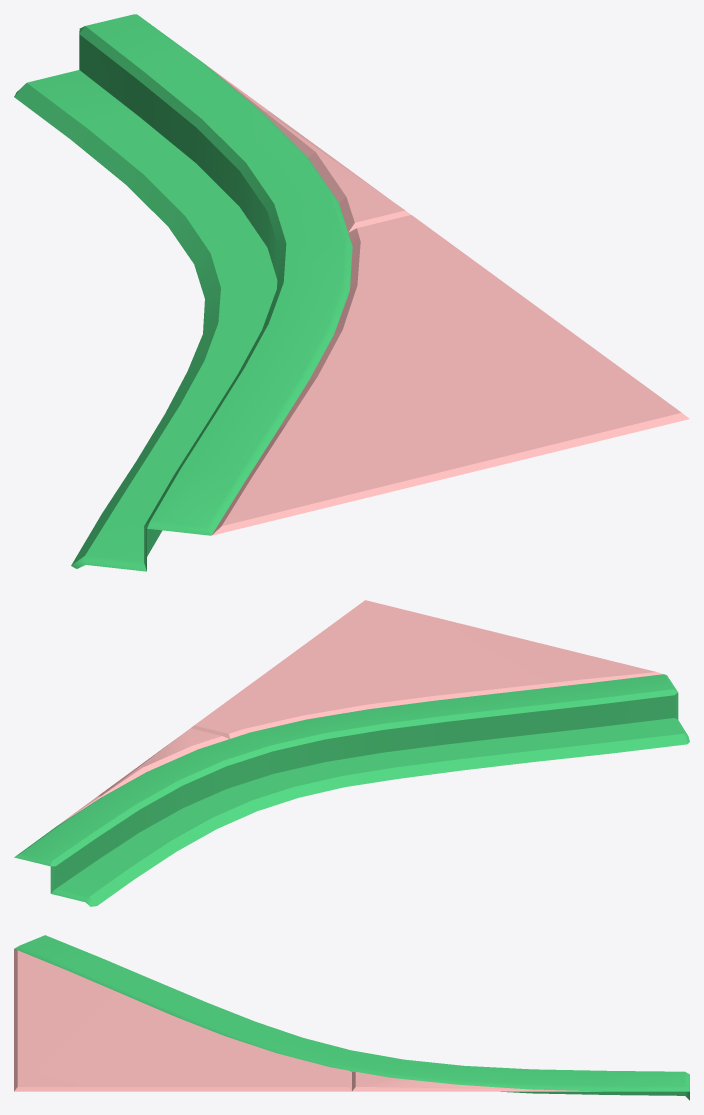
The model's file is mesh_Paving_Inner45Right_v1.3.fbx.
The picture shows the model from 3 angles, top to bottom: view 1: azimuth 30°, elevation 25°; view 2: azimuth 150°, elevation 25°; view 3: azimuth 270°, elevation 25°; orthographic projection. The views are drawn at different scales.
Parts seen in each view (by area): view 1: mesh_Paving_Inner45Right; view 2: mesh_Paving_Inner45Right; view 3: mesh_Paving_Inner45Right.
Part boxes in pixels (left/top/right/bottom): mesh_Paving_Inner45Right: left=14, top=14, right=689, bottom=571; mesh_Paving_Inner45Right: left=14, top=600, right=689, bottom=906; mesh_Paving_Inner45Right: left=14, top=935, right=689, bottom=1100.
Size of the model in its own units: 118 by 10.77 by 200.
